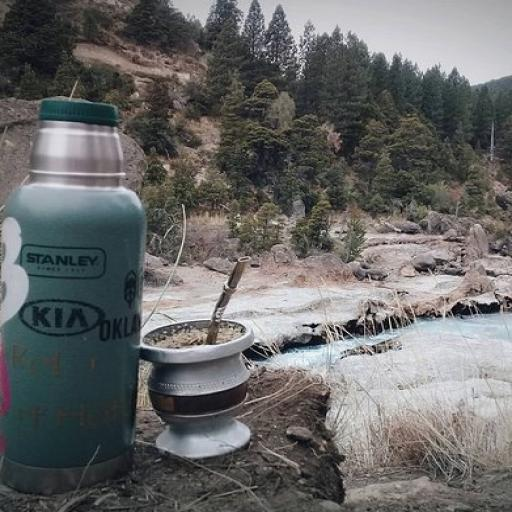mate: (141, 258, 254, 458)
termo: (0, 98, 146, 494)
